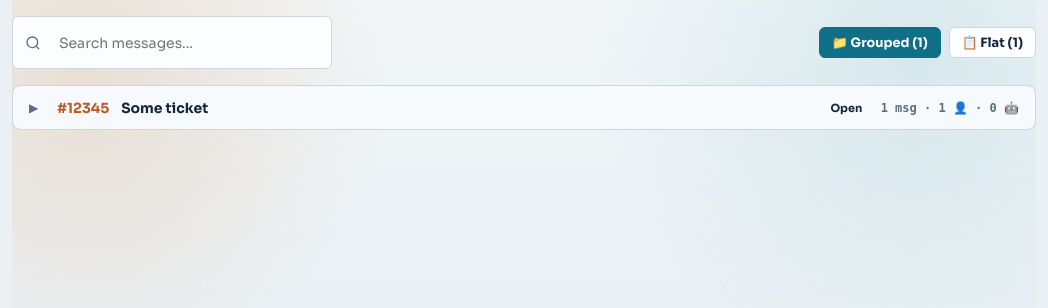
Test: AiChatHistoryClient › still renders the issue link for messages that do have one
Click the button "📋 Flat (1)": (992, 43) [949,27,1036,58]
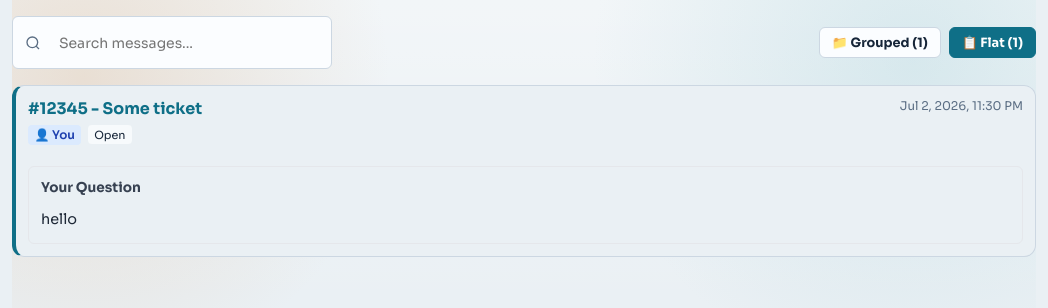
Expected: the link "#12345 - Some ticket" is shown, [28,98,202,119]
